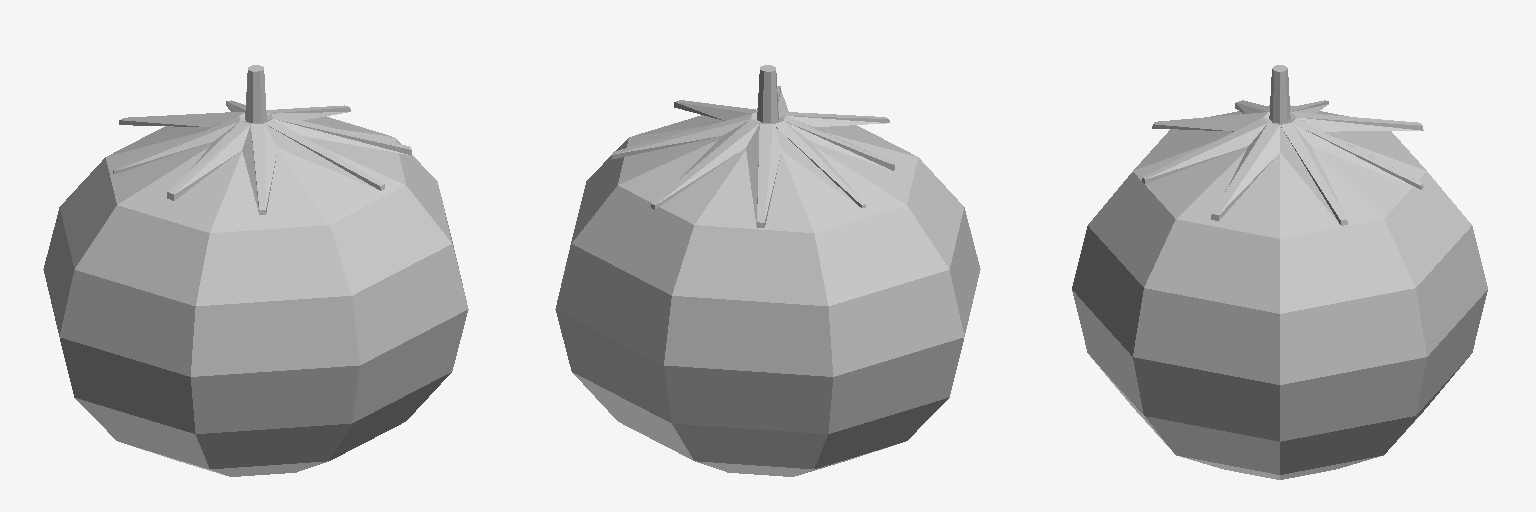
The model's file is Tomato.obj.
The picture shows the model from 3 angles: view 1: azimuth 30°, elevation 25°; view 2: azimuth 150°, elevation 25°; view 3: azimuth 270°, elevation 25°; orthographic projection.
Parts seen in each view (by area): view 1: pSphere3; view 2: pSphere3; view 3: pSphere3.
Part boxes in pixels (left/top/right/bottom): pSphere3: left=43, top=65, right=468, bottom=476; pSphere3: left=555, top=65, right=980, bottom=476; pSphere3: left=1072, top=65, right=1487, bottom=479.
Bounding box in the file's own units: 3.16 × 2.88 × 2.89.